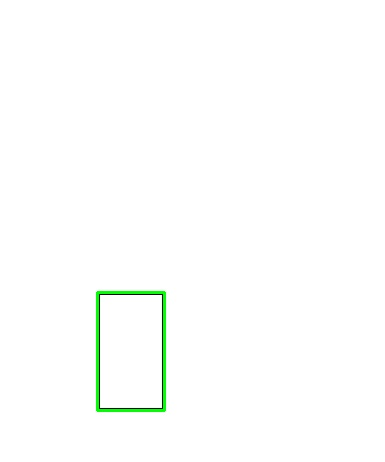line_segment: (96, 291, 166, 412)
